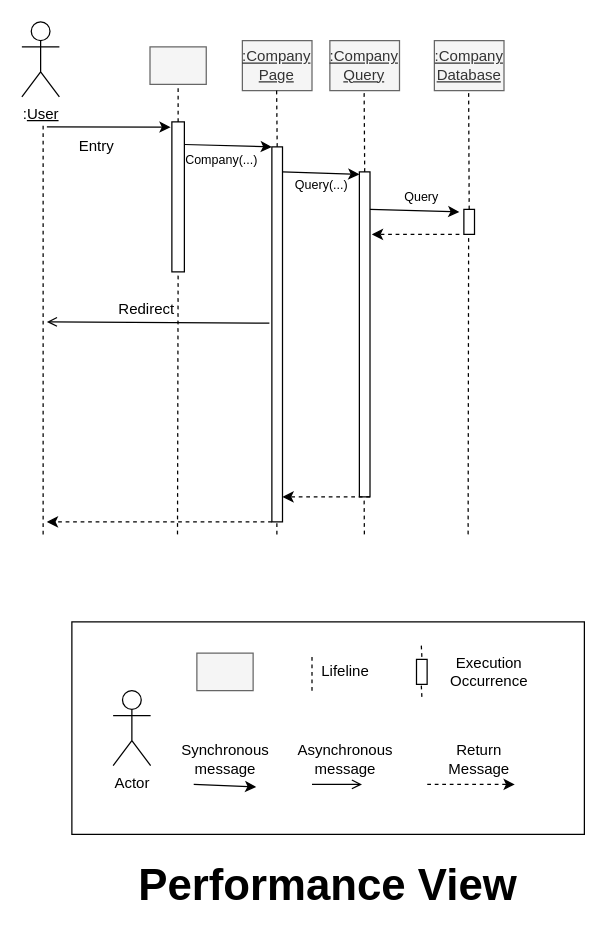
Image size: 606x933. Some labels were removed from this diagram. Each missing label, with the box of its shape:
:Main Page: (149, 46, 206, 84)
:object: (196, 652, 253, 691)
